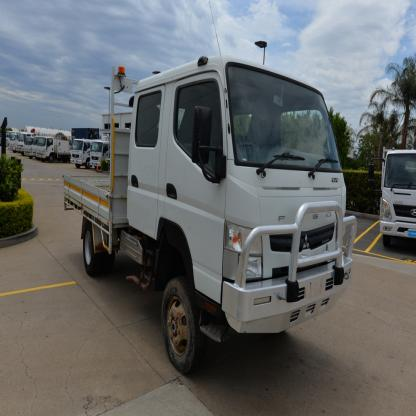truck: (63, 44, 359, 373)
